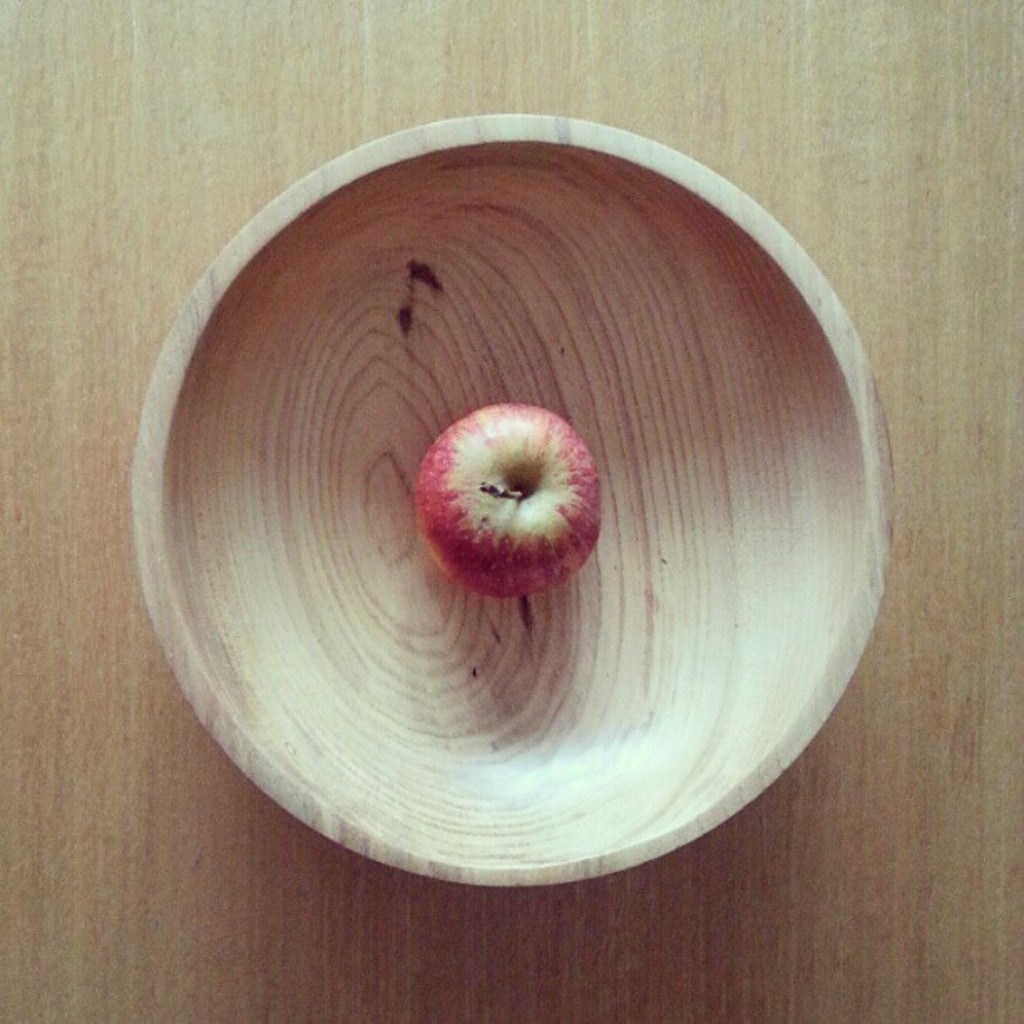Apple: (403, 384, 624, 620)
